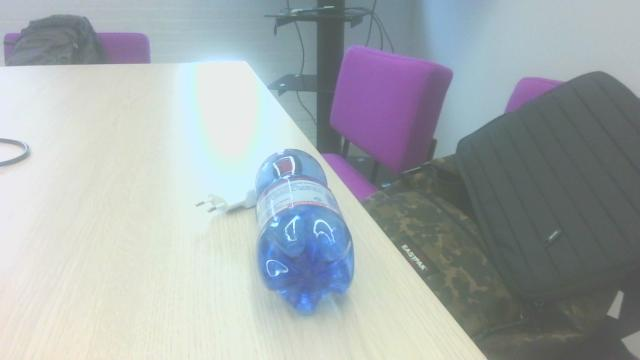plastic_bottle: (250, 144, 362, 318)
